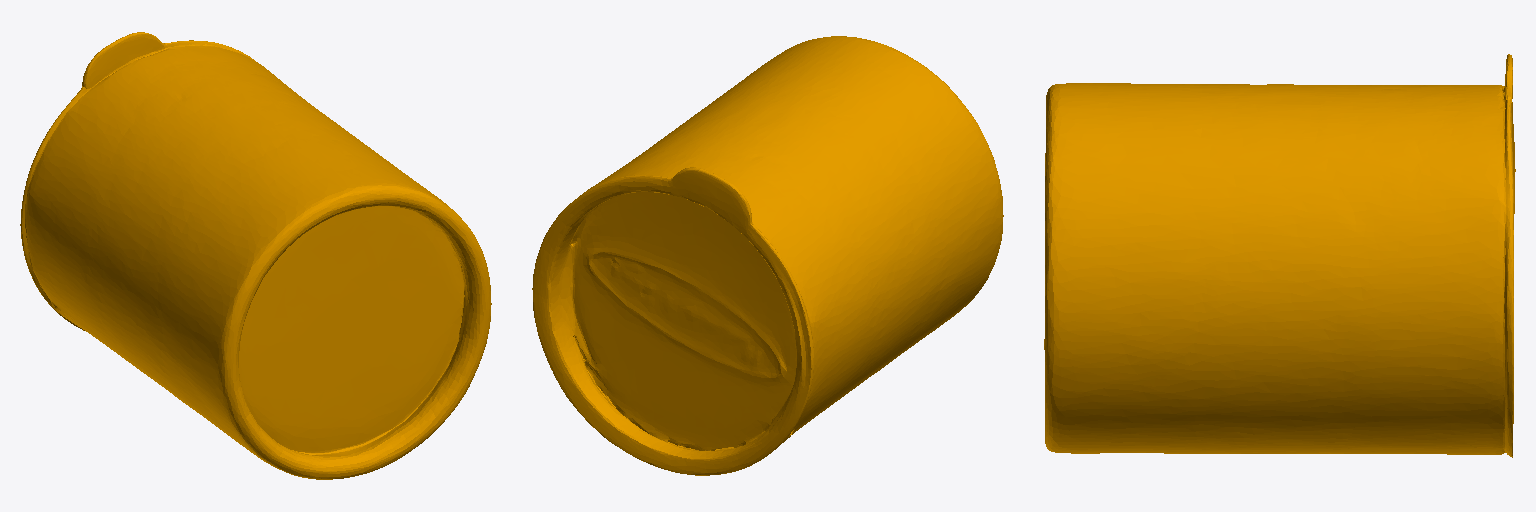
robot.urdf — tomato_sauce:
<?xml version="1.0"?>
<!-- GENERATED by tasks/libero/build_env/build_object_urdf.py. Do not hand edit.

     LIBERO object `tomato_sauce`, spawnable by the TRO-MP env.
     Role: graspable target object (envs/), one of the 22 LIBERO target assets.

     WHY a URDF when envs/tomato_sauce/ may also hold a USD: this env spawns objects
     only through `assets.object_urdf` (scene_utils.py:1929, which calls
     _convert_urdf_to_usd at :1964). The assets dataclass declares no USD field,
     so a ready-made USD cannot be handed to this code path.

     Mesh coordinates are PRESERVED, not re-centred: 11 of 22 LIBERO envs have
     their mesh origin at the object's base, and `goal_traj` tracks that origin.
     Re-centring would offset the object from its own trajectory every frame.

     Mass: density 800.0 kg/m^3 x mesh volume 2.369750e-04 m^3
     Inertia: solid-box approximation about the COM at that mass, NOT the true
     mesh inertia tensor. Adequate for a graspable tabletop object; revisit if
     spin dynamics matter.

     Collision: the full mesh, decomposed by Isaac's URDF importer. The convex
     decomposition authored in the DexVerse USD is NOT reproduced here.
-->
<robot name="tomato_sauce">
  <link name="tomato_sauce">
    <inertial>
      <origin xyz="-0.000093 -0.000897 -0.001990" rpy="0 0 0"/>
      <mass value="0.189580"/>
      <inertia ixx="1.862839e-04" ixy="0" ixz="0" iyy="1.476516e-04" iyz="0" izz="1.782338e-04"/>
    </inertial>
    <visual>
      <origin xyz="0 0 0" rpy="0 0 0"/>
      <geometry><mesh filename="tomato_sauce.obj" scale="1 1 1"/></geometry>
    </visual>
    <collision>
      <origin xyz="0 0 0" rpy="0 0 0"/>
      <geometry><mesh filename="tomato_sauce.obj" scale="1 1 1"/></geometry>
    </collision>
  </link>
</robot>

--- Facts derived from the render (not from the file) ---
3 views of the same robot in one strip: view 1: azimuth 30°, elevation 25°; view 2: azimuth 150°, elevation 25°; view 3: azimuth 270°, elevation 25° (orthographic).
Model tomato_sauce with 1 links and 0 joints (none), rooted at tomato_sauce, posed every joint at zero.
Links seen in each view (by area): view 1: tomato_sauce; view 2: tomato_sauce; view 3: tomato_sauce.
Boxes of the visible links, x1=… form: tomato_sauce: x1=20, y1=32, x2=491, y2=479; tomato_sauce: x1=532, y1=36, x2=1003, y2=475; tomato_sauce: x1=1044, y1=54, x2=1515, y2=457.
Bounding box of the posed robot: 0.0665 × 0.0828 × 0.0702 m (x, y, z).
Meshes: 1 distinct files referenced, 1 mesh visuals loaded (1 OBJ).
